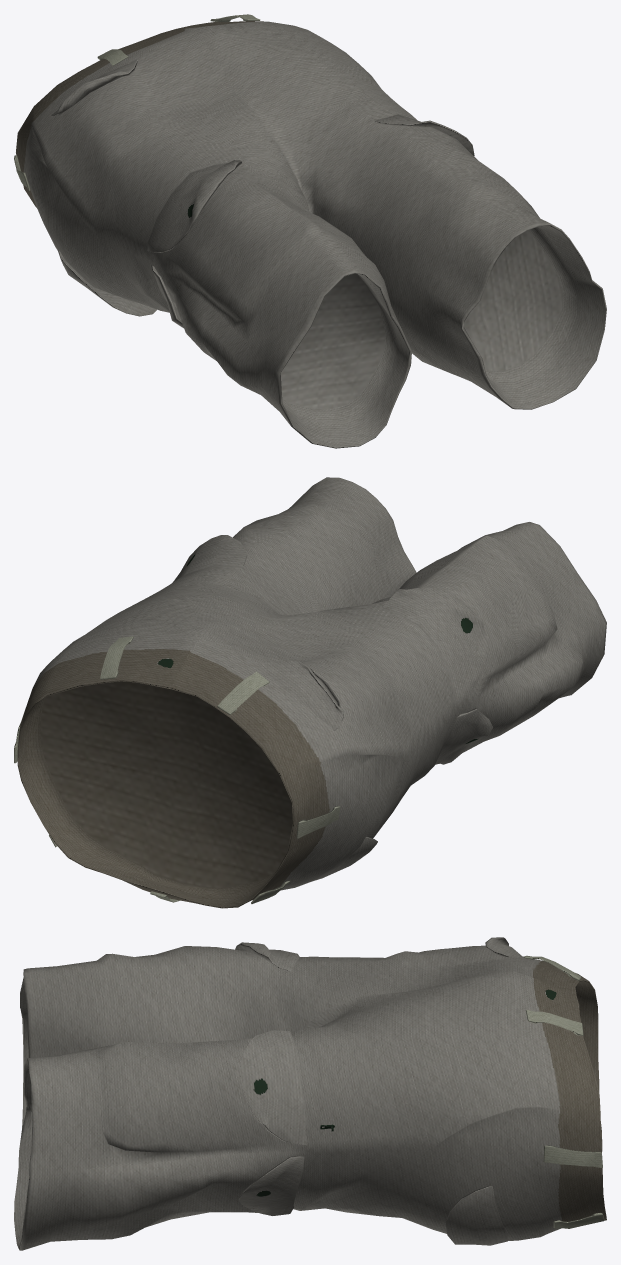
File: pickup_default_bottoms.glb
3 views of the same model, one above another, from view 1: azimuth 30°, elevation 25°; view 2: azimuth 150°, elevation 25°; view 3: azimuth 270°, elevation 25° (orthographic).
Parts seen in each view (by area): view 1: Bottoms.001; view 2: Bottoms.001; view 3: Bottoms.001.
Part boxes in pixels (left/top/right/bottom): Bottoms.001: left=14, top=14, right=606, bottom=448; Bottoms.001: left=14, top=477, right=606, bottom=908; Bottoms.001: left=14, top=937, right=606, bottom=1250.
Size of the model in its own units: 0.821 by 0.571 by 1.23.
Materials: 1 (1 with a texture image).
